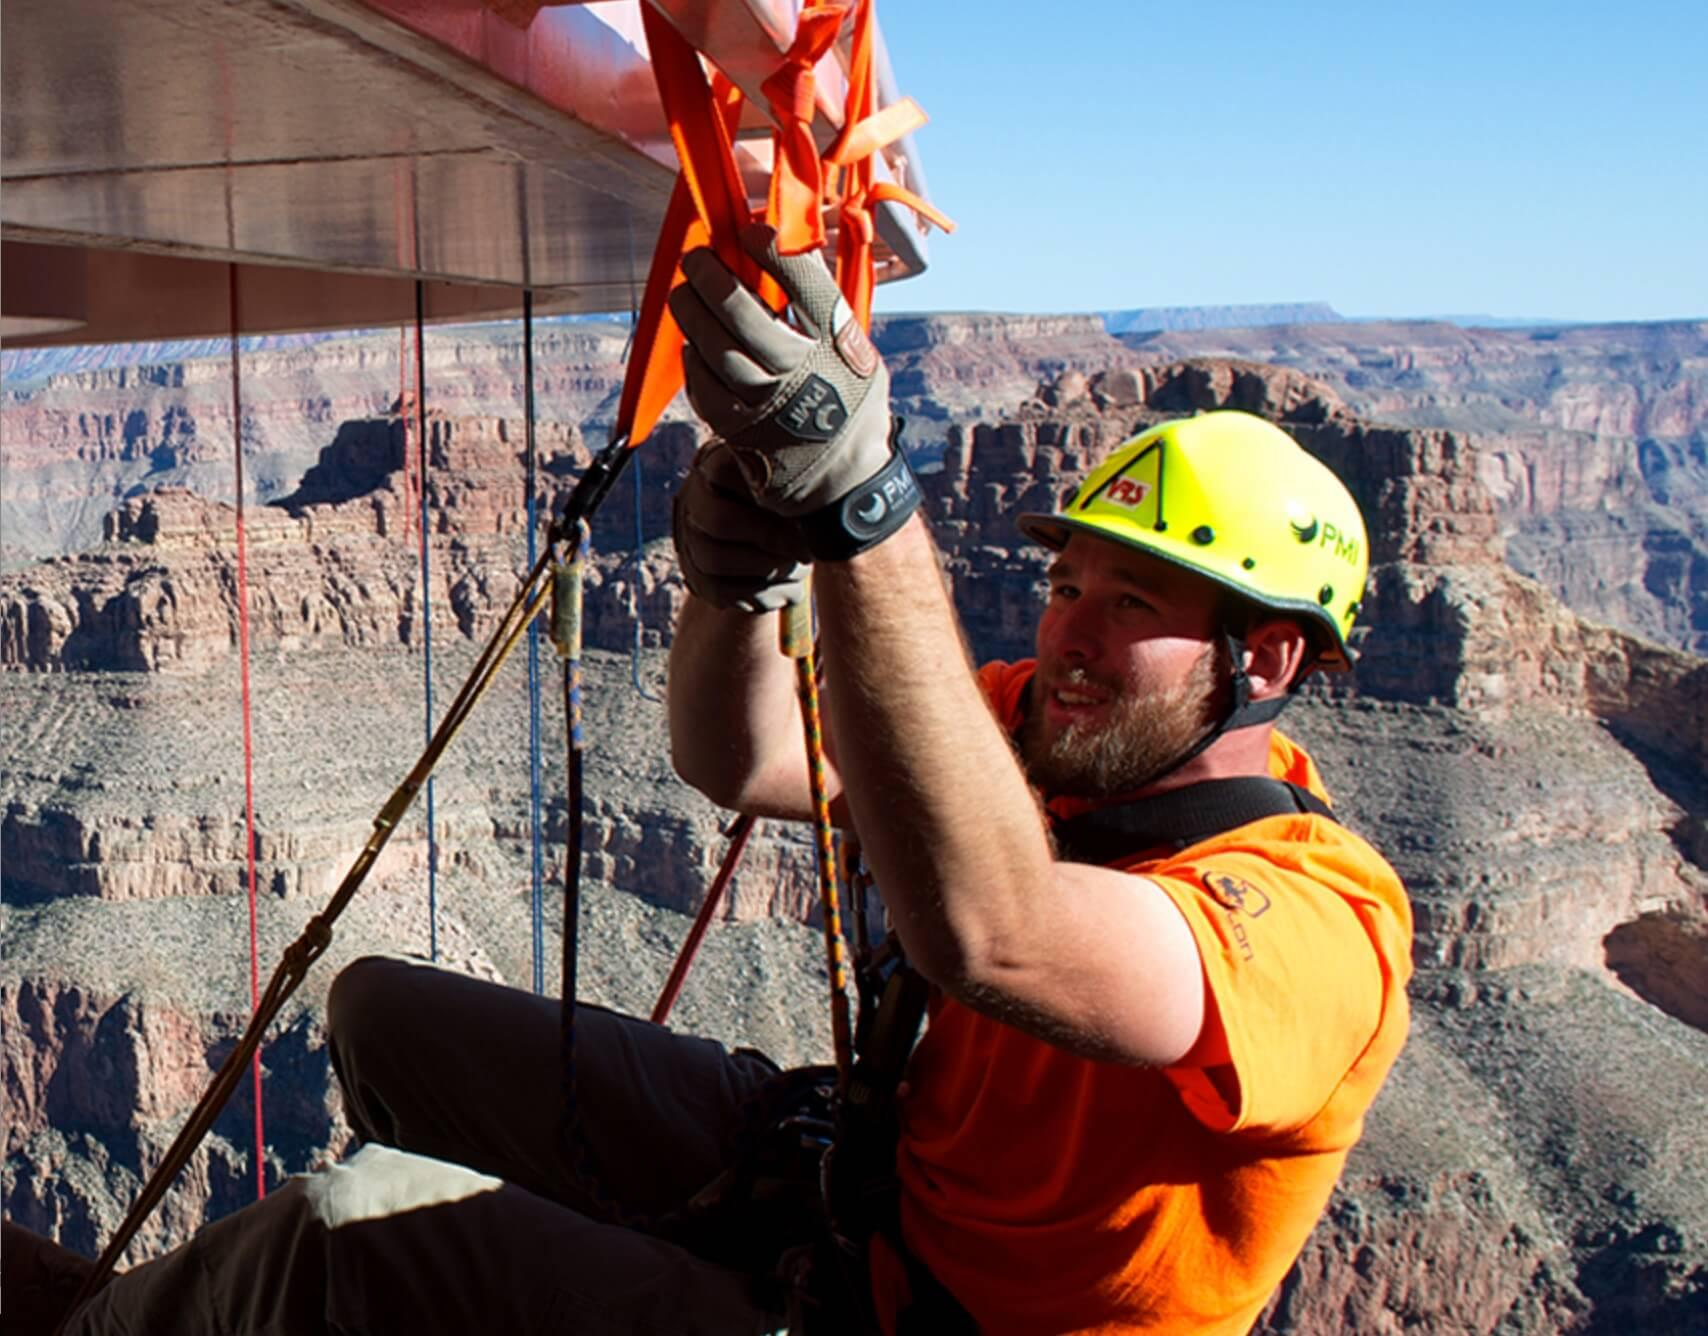helmet: (1019, 402, 1382, 658)
